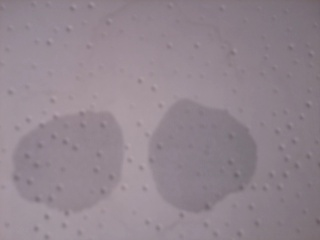Water_detected: (153, 107, 232, 195), (25, 125, 106, 203)
